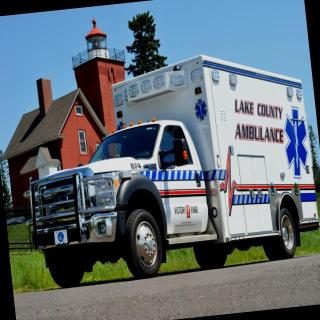Ambulance: (6, 46, 320, 292)
